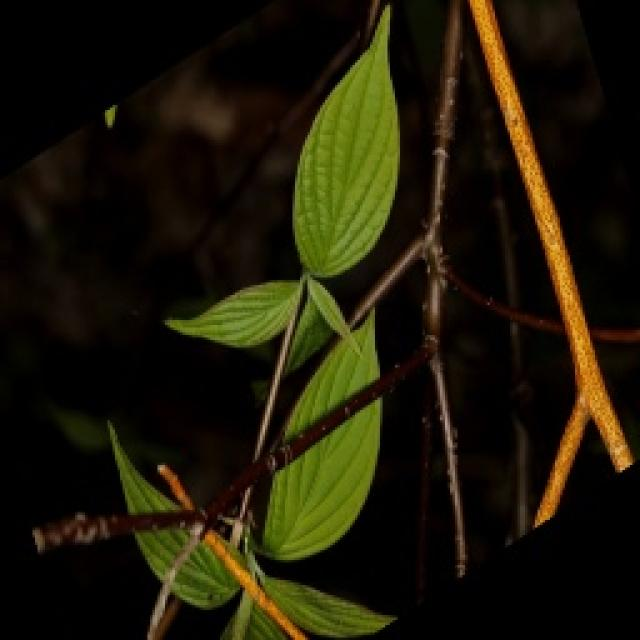Golden_canker: (460, 8, 640, 538), (150, 460, 332, 638)
